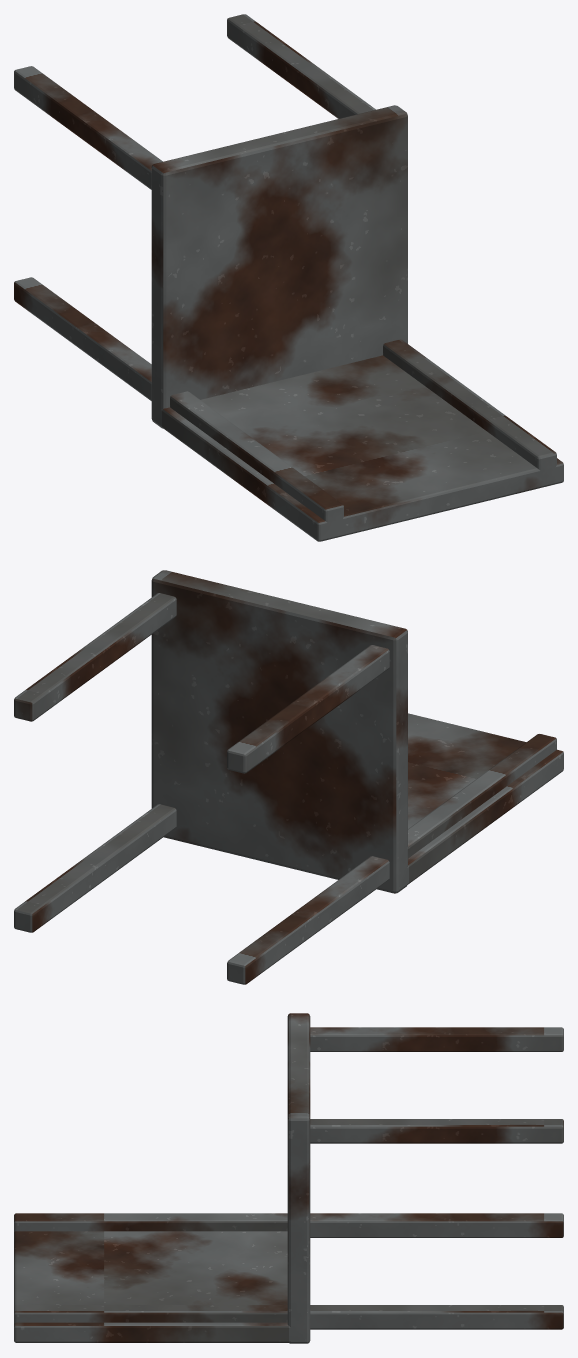
Rendered from D02_overturned_chair_v2.glb.
3 renders of one model, top to bottom at view 1: azimuth 30°, elevation 25°; view 2: azimuth 150°, elevation 25°; view 3: azimuth 270°, elevation 25°, orthographic. The views are drawn at different scales.
Parts seen in each view (by area): view 1: D02_overturned_chair_v2; view 2: D02_overturned_chair_v2; view 3: D02_overturned_chair_v2.
Boxes of the visible parts, x1,y1,x2,y2 form: D02_overturned_chair_v2: (14,14,563,541); D02_overturned_chair_v2: (14,570,563,984); D02_overturned_chair_v2: (14,1013,563,1343).
Bounding box in the file's own units: 0.4104 × 0.4104 × 0.9.
1 material, 1 textured.
